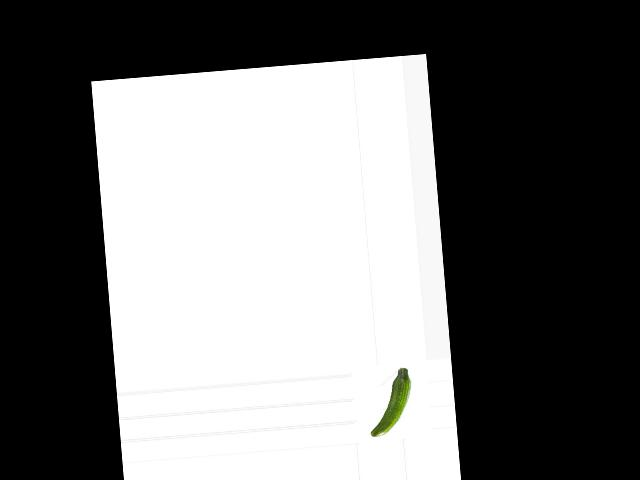cucumber: (364, 366, 414, 437)
